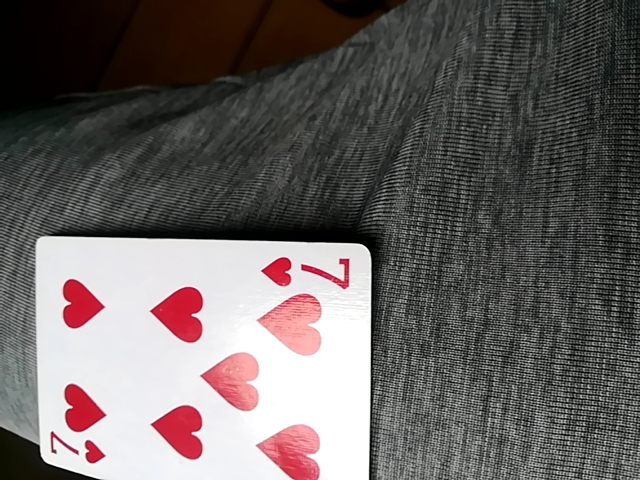hx 7: (34, 233, 376, 479)
